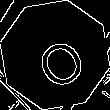O_NW: (23, 22, 87, 88)
